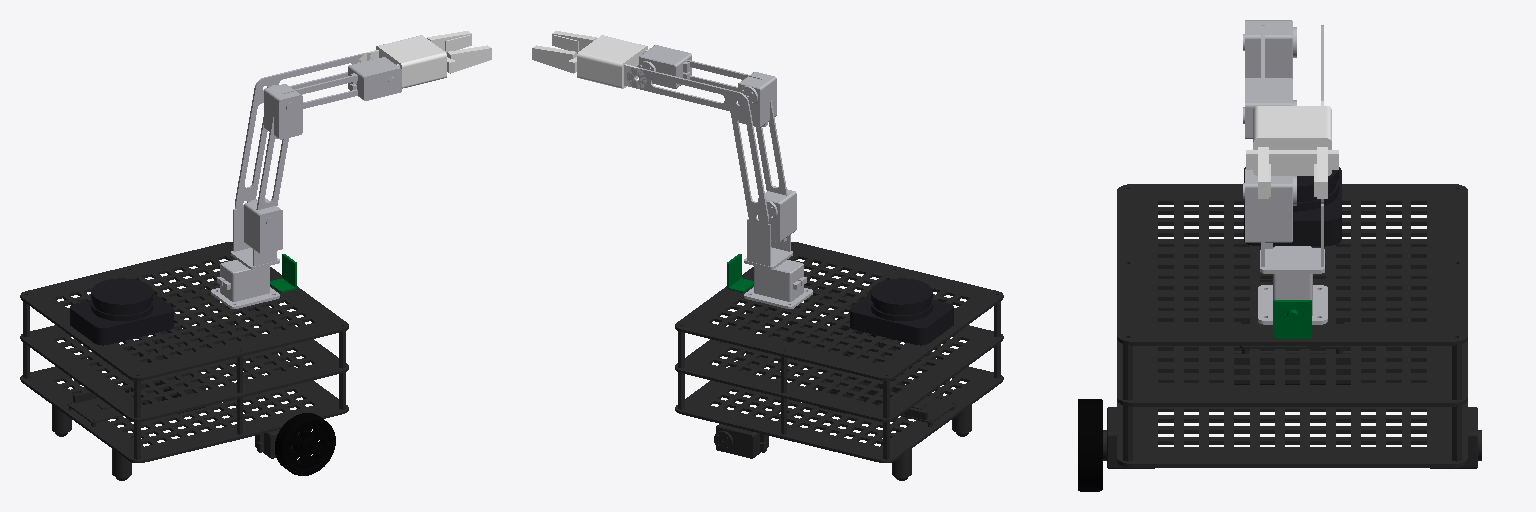
The robot description file, URDF, robot "tb3_omx":
<?xml version="1.0"?>
<!-- TurtleBot3 Waffle Pi + OpenMANIPULATOR-X  |  generated by source/generate.py -->
<robot name="tb3_omx">
  <material name="dark_grey"><color rgba="0.2 0.2 0.2 1"/></material>
  <material name="black"><color rgba="0.05 0.05 0.05 1"/></material>
  <material name="dark"><color rgba="0.15 0.15 0.17 1"/></material>
  <material name="green"><color rgba="0.0 0.45 0.2 1"/></material>
  <material name="aluminium"><color rgba="0.75 0.75 0.78 1"/></material>
  <material name="white"><color rgba="0.92 0.92 0.92 1"/></material>
  <link name="base_footprint"/>
  <link name="imu_link"/>
  <link name="end_effector_link"/>
  <link name="caster_back_left_link">
    <collision><geometry><sphere radius="0.008"/></geometry></collision>
    <inertial><mass value="0.005"/><inertia ixx="1e-6" ixy="0" ixz="0" iyy="1e-6" iyz="0" izz="1e-6"/></inertial>
  </link>
  <link name="caster_back_right_link">
    <collision><geometry><sphere radius="0.008"/></geometry></collision>
    <inertial><mass value="0.005"/><inertia ixx="1e-6" ixy="0" ixz="0" iyy="1e-6" iyz="0" izz="1e-6"/></inertial>
  </link>
  <link name="base_link">
    <visual>
      <origin xyz="0 0 0" rpy="0 0 0"/>
      <geometry><mesh filename="package://tb3_omx_description/meshes/base_link.stl" scale="0.001 0.001 0.001"/></geometry>
      <material name="dark_grey"/>
    </visual>
    <collision>
      <origin xyz="-0.064 0 0.08275" rpy="0 0 0"/>
      <geometry><box size="0.266 0.25 0.107"/></geometry>
    </collision>
    <inertial>
      <origin xyz="-0.0664042 2.92852e-05 0.0707364" rpy="0 0 0"/>
      <mass value="1.6"/>
      <inertia ixx="1.228055e-02" ixy="5.002345e-06" ixz="-3.430103e-05" iyy="1.150243e-02" iyz="1.831477e-06" izz="1.847985e-02"/>
    </inertial>
  </link>
  <link name="wheel_left_link">
    <visual>
      <origin xyz="0 0 0" rpy="0 0 0"/>
      <geometry><mesh filename="package://tb3_omx_description/meshes/wheel_left_link.stl" scale="0.001 0.001 0.001"/></geometry>
      <material name="black"/>
    </visual>
    <collision>
      <origin xyz="0 0 0" rpy="0 0 0"/>
      <geometry><cylinder radius="0.033" length="0.018"/></geometry>
    </collision>
    <inertial>
      <origin xyz="0 0 0" rpy="0 0 0"/>
      <mass value="0.0285"/>
      <inertia ixx="9.462499e-06" ixy="9.164671e-22" ixz="-4.241032e-23" iyy="9.462499e-06" iyz="1.471676e-23" izz="1.780869e-05"/>
    </inertial>
  </link>
  <link name="wheel_right_link">
    <visual>
      <origin xyz="0 0 0" rpy="0 0 0"/>
      <geometry><mesh filename="package://tb3_omx_description/meshes/wheel_right_link.stl" scale="0.001 0.001 0.001"/></geometry>
      <material name="black"/>
    </visual>
    <collision>
      <origin xyz="0 0 0" rpy="0 0 0"/>
      <geometry><cylinder radius="0.033" length="0.018"/></geometry>
    </collision>
    <inertial>
      <origin xyz="0 0 0" rpy="0 0 0"/>
      <mass value="0.0285"/>
      <inertia ixx="9.462499e-06" ixy="9.164671e-22" ixz="-4.241032e-23" iyy="9.462499e-06" iyz="1.471676e-23" izz="1.780869e-05"/>
    </inertial>
  </link>
  <link name="base_scan">
    <visual>
      <origin xyz="0 0 0" rpy="0 0 0"/>
      <geometry><mesh filename="package://tb3_omx_description/meshes/base_scan.stl" scale="0.001 0.001 0.001"/></geometry>
      <material name="dark"/>
    </visual>
    <collision>
      <origin xyz="0 0 0" rpy="0 0 0"/>
      <geometry><mesh filename="package://tb3_omx_description/meshes/base_scan.stl" scale="0.001 0.001 0.001"/></geometry>
    </collision>
    <inertial>
      <origin xyz="0 0 -0.0135566" rpy="0 0 0"/>
      <mass value="0.114"/>
      <inertia ixx="5.347521e-05" ixy="3.513103e-22" ixz="1.231216e-21" iyy="8.029145e-05" iyz="8.523986e-23" izz="1.066196e-04"/>
    </inertial>
  </link>
  <link name="camera_link">
    <visual>
      <origin xyz="0 0 0" rpy="0 0 0"/>
      <geometry><mesh filename="package://tb3_omx_description/meshes/camera_link.stl" scale="0.001 0.001 0.001"/></geometry>
      <material name="green"/>
    </visual>
    <collision>
      <origin xyz="0 0 0" rpy="0 0 0"/>
      <geometry><mesh filename="package://tb3_omx_description/meshes/camera_link.stl" scale="0.001 0.001 0.001"/></geometry>
    </collision>
    <inertial>
      <origin xyz="-0.00427417 0 -0.00812358" rpy="0 0 0"/>
      <mass value="0.035"/>
      <inertia ixx="5.327454e-06" ixy="3.557610e-23" ixz="-1.229516e-06" iyy="4.431648e-06" iyz="3.727679e-23" izz="3.215425e-06"/>
    </inertial>
  </link>
  <link name="link1">
    <visual>
      <origin xyz="0 0 0" rpy="0 0 0"/>
      <geometry><mesh filename="package://tb3_omx_description/meshes/link1.stl" scale="0.001 0.001 0.001"/></geometry>
      <material name="aluminium"/>
    </visual>
    <collision>
      <origin xyz="0 0 0" rpy="0 0 0"/>
      <geometry><mesh filename="package://tb3_omx_description/meshes/link1.stl" scale="0.001 0.001 0.001"/></geometry>
    </collision>
    <inertial>
      <origin xyz="-1.95566e-05 0 -0.00263376" rpy="0 0 0"/>
      <mass value="0.0794"/>
      <inertia ixx="1.751067e-05" ixy="-3.916690e-23" ixz="-3.056049e-07" iyy="2.657503e-05" iyz="1.631697e-21" izz="2.300670e-05"/>
    </inertial>
  </link>
  <link name="link2">
    <visual>
      <origin xyz="0 0 0" rpy="0 0 0"/>
      <geometry><mesh filename="package://tb3_omx_description/meshes/link2.stl" scale="0.001 0.001 0.001"/></geometry>
      <material name="aluminium"/>
    </visual>
    <collision>
      <origin xyz="0 0 0" rpy="0 0 0"/>
      <geometry><mesh filename="package://tb3_omx_description/meshes/link2.stl" scale="0.001 0.001 0.001"/></geometry>
    </collision>
    <inertial>
      <origin xyz="0 -0.013286 0.0418309" rpy="0 0 0"/>
      <mass value="0.0985"/>
      <inertia ixx="5.143864e-05" ixy="9.209884e-22" ixz="4.937743e-21" iyy="3.929422e-05" iyz="7.022852e-06" izz="2.579167e-05"/>
    </inertial>
  </link>
  <link name="link3">
    <visual>
      <origin xyz="0 0 0" rpy="0 0 0"/>
      <geometry><mesh filename="package://tb3_omx_description/meshes/link3.stl" scale="0.001 0.001 0.001"/></geometry>
      <material name="aluminium"/>
    </visual>
    <collision>
      <origin xyz="0 0 0" rpy="0 0 0"/>
      <geometry><mesh filename="package://tb3_omx_description/meshes/link3.stl" scale="0.001 0.001 0.001"/></geometry>
    </collision>
    <inertial>
      <origin xyz="0.0214607 -0.0131109 0.104978" rpy="0 0 0"/>
      <mass value="0.1385"/>
      <inertia ixx="1.773126e-04" ixy="4.611043e-06" ixz="-2.607554e-05" iyy="1.611754e-04" iyz="1.946478e-05" izz="4.520910e-05"/>
    </inertial>
  </link>
  <link name="link4">
    <visual>
      <origin xyz="0 0 0" rpy="0 0 0"/>
      <geometry><mesh filename="package://tb3_omx_description/meshes/link4.stl" scale="0.001 0.001 0.001"/></geometry>
      <material name="aluminium"/>
    </visual>
    <collision>
      <origin xyz="0 0 0" rpy="0 0 0"/>
      <geometry><mesh filename="package://tb3_omx_description/meshes/link4.stl" scale="0.001 0.001 0.001"/></geometry>
    </collision>
    <inertial>
      <origin xyz="0.101677 -0.0132027 0" rpy="0 0 0"/>
      <mass value="0.1324"/>
      <inertia ixx="3.755913e-05" ixy="1.751570e-05" ixz="5.919502e-21" iyy="1.387335e-04" iyz="-1.665096e-21" izz="1.590702e-04"/>
    </inertial>
  </link>
  <link name="link5">
    <visual>
      <origin xyz="0 0 0" rpy="0 0 0"/>
      <geometry><mesh filename="package://tb3_omx_description/meshes/link5.stl" scale="0.001 0.001 0.001"/></geometry>
      <material name="white"/>
    </visual>
    <collision>
      <origin xyz="0 0 0" rpy="0 0 0"/>
      <geometry><mesh filename="package://tb3_omx_description/meshes/link5.stl" scale="0.001 0.001 0.001"/></geometry>
    </collision>
    <inertial>
      <origin xyz="0.0433089 0 0" rpy="0 0 0"/>
      <mass value="0.1438"/>
      <inertia ixx="4.872970e-05" ixy="-1.919941e-21" ixz="4.522255e-22" iyy="5.808539e-05" iyz="-2.995429e-23" izz="8.685506e-05"/>
    </inertial>
  </link>
  <link name="gripper_left_link">
    <visual>
      <origin xyz="0 0 0" rpy="0 0 0"/>
      <geometry><mesh filename="package://tb3_omx_description/meshes/gripper_left_link.stl" scale="0.001 0.001 0.001"/></geometry>
      <material name="white"/>
    </visual>
    <collision>
      <origin xyz="0 0 0" rpy="0 0 0"/>
      <geometry><mesh filename="package://tb3_omx_description/meshes/gripper_left_link.stl" scale="0.001 0.001 0.001"/></geometry>
    </collision>
    <inertial>
      <origin xyz="0.0178355 -0.000331395 0" rpy="0 0 0"/>
      <mass value="0.01"/>
      <inertia ixx="3.363243e-07" ixy="3.037077e-08" ixz="7.450239e-23" iyy="2.293338e-06" iyz="-5.650206e-24" izz="2.085787e-06"/>
    </inertial>
  </link>
  <link name="gripper_right_link">
    <visual>
      <origin xyz="0 0 0" rpy="0 0 0"/>
      <geometry><mesh filename="package://tb3_omx_description/meshes/gripper_right_link.stl" scale="0.001 0.001 0.001"/></geometry>
      <material name="white"/>
    </visual>
    <collision>
      <origin xyz="0 0 0" rpy="0 0 0"/>
      <geometry><mesh filename="package://tb3_omx_description/meshes/gripper_right_link.stl" scale="0.001 0.001 0.001"/></geometry>
    </collision>
    <inertial>
      <origin xyz="0.0178355 0.000331395 0" rpy="0 0 0"/>
      <mass value="0.01"/>
      <inertia ixx="3.363243e-07" ixy="-3.037077e-08" ixz="-9.017583e-23" iyy="2.293338e-06" iyz="-2.741828e-23" izz="2.085787e-06"/>
    </inertial>
  </link>
  <joint name="base_joint" type="fixed">
    <parent link="base_footprint"/>
    <child link="base_link"/>
    <origin xyz="0 0 0.01" rpy="0 0 0"/>
  </joint>
  <joint name="wheel_left_joint" type="continuous">
    <parent link="base_link"/>
    <child link="wheel_left_link"/>
    <origin xyz="0 0.144 0.023" rpy="-1.5708 0 0"/>
    <axis xyz="0 0 1"/>
    <dynamics damping="0.01" friction="0.0"/>
  </joint>
  <joint name="wheel_right_joint" type="continuous">
    <parent link="base_link"/>
    <child link="wheel_right_link"/>
    <origin xyz="0 -0.144 0.023" rpy="-1.5708 0 0"/>
    <axis xyz="0 0 1"/>
    <dynamics damping="0.01" friction="0.0"/>
  </joint>
  <joint name="caster_back_left_joint" type="fixed">
    <parent link="base_link"/>
    <child link="caster_back_left_link"/>
    <origin xyz="-0.177 0.064 -0.002" rpy="0 0 0"/>
  </joint>
  <joint name="caster_back_right_joint" type="fixed">
    <parent link="base_link"/>
    <child link="caster_back_right_link"/>
    <origin xyz="-0.177 -0.064 -0.002" rpy="0 0 0"/>
  </joint>
  <joint name="imu_joint" type="fixed">
    <parent link="base_link"/>
    <child link="imu_link"/>
    <origin xyz="-0.064 0 0.09825" rpy="0 0 0"/>
  </joint>
  <joint name="scan_joint" type="fixed">
    <parent link="base_link"/>
    <child link="base_scan"/>
    <origin xyz="-0.14 0 0.16625" rpy="0 0 0"/>
  </joint>
  <joint name="camera_joint" type="fixed">
    <parent link="base_link"/>
    <child link="camera_link"/>
    <origin xyz="0.066 0 0.15625" rpy="0 0 0"/>
  </joint>
  <joint name="arm_mount_joint" type="fixed">
    <parent link="base_link"/>
    <child link="link1"/>
    <origin xyz="0.01 0 0.15625" rpy="0 0 0"/>
  </joint>
  <joint name="joint1" type="revolute">
    <parent link="link1"/>
    <child link="link2"/>
    <origin xyz="0.012 0 0.017" rpy="0 0 0"/>
    <axis xyz="0 0 1"/>
    <limit lower="-2.82743" upper="2.82743" effort="1" velocity="4.8"/>
    <dynamics damping="0.1" friction="0.0"/>
  </joint>
  <joint name="joint2" type="revolute">
    <parent link="link2"/>
    <child link="link3"/>
    <origin xyz="0 0 0.0595" rpy="0 0 0"/>
    <axis xyz="0 1 0"/>
    <limit lower="-1.79071" upper="1.5708" effort="1" velocity="4.8"/>
    <dynamics damping="0.1" friction="0.0"/>
  </joint>
  <joint name="joint3" type="revolute">
    <parent link="link3"/>
    <child link="link4"/>
    <origin xyz="0.024 0 0.128" rpy="0 0 0"/>
    <axis xyz="0 1 0"/>
    <limit lower="-0.942478" upper="1.3823" effort="1" velocity="4.8"/>
    <dynamics damping="0.1" friction="0.0"/>
  </joint>
  <joint name="joint4" type="revolute">
    <parent link="link4"/>
    <child link="link5"/>
    <origin xyz="0.124 0 0" rpy="0 0 0"/>
    <axis xyz="0 1 0"/>
    <limit lower="-1.79071" upper="2.04204" effort="1" velocity="4.8"/>
    <dynamics damping="0.1" friction="0.0"/>
  </joint>
  <joint name="gripper_left_joint" type="prismatic">
    <parent link="link5"/>
    <child link="gripper_left_link"/>
    <origin xyz="0.0817 0.021 0" rpy="0 0 0"/>
    <axis xyz="0 1 0"/>
    <limit lower="-0.01" upper="0.019" effort="1" velocity="0.1"/>
    <dynamics damping="0.1" friction="0.0"/>
  </joint>
  <joint name="gripper_right_joint" type="prismatic">
    <parent link="link5"/>
    <child link="gripper_right_link"/>
    <origin xyz="0.0817 -0.021 0" rpy="0 0 0"/>
    <axis xyz="0 -1 0"/>
    <limit lower="-0.01" upper="0.019" effort="1" velocity="0.1"/>
    <dynamics damping="0.1" friction="0.0"/>
    <mimic joint="gripper_left_joint" multiplier="1" offset="0"/>
  </joint>
  <joint name="end_effector_joint" type="fixed">
    <parent link="link5"/>
    <child link="end_effector_link"/>
    <origin xyz="0.126 0 0" rpy="0 0 0"/>
  </joint>
</robot>

--- Facts derived from the render (not from the file) ---
The picture shows the robot from 3 angles, left to right: view 1: azimuth 30°, elevation 25°; view 2: azimuth 150°, elevation 25°; view 3: azimuth 270°, elevation 25°; orthographic projection.
Robot: tb3_omx — 17 links, 16 joints (4 revolute, 2 continuous, 2 prismatic, 8 fixed); root link base_footprint; default pose: every joint at zero.
Links seen in each view (by area): view 1: base_link, base_scan, link3, link4, wheel_right_link, link2, link5, link1, gripper_right_link, camera_link, gripper_left_link; view 2: base_link, base_scan, link3, link4, link2, link5, link1, gripper_left_link, camera_link, gripper_right_link; view 3: base_link, link5, link2, base_scan, link3, wheel_right_link, link1, link4, camera_link, gripper_left_link, gripper_right_link.
Boxes of the visible links, bbox=[...] form: base_link: bbox=[20, 242, 348, 480]; base_scan: bbox=[70, 278, 173, 345]; link3: bbox=[235, 78, 302, 213]; link4: bbox=[255, 53, 401, 108]; wheel_right_link: bbox=[275, 413, 335, 475]; link2: bbox=[231, 198, 282, 269]; link5: bbox=[358, 35, 455, 88]; link1: bbox=[211, 260, 279, 308]; gripper_right_link: bbox=[447, 45, 491, 73]; camera_link: bbox=[270, 254, 296, 292]; gripper_left_link: bbox=[427, 31, 471, 53]; base_link: bbox=[675, 242, 1003, 480]; base_scan: bbox=[850, 278, 953, 345]; link3: bbox=[729, 72, 787, 227]; link4: bbox=[627, 45, 761, 113]; link2: bbox=[744, 186, 796, 269]; link5: bbox=[568, 35, 647, 88]; link1: bbox=[744, 260, 812, 308]; gripper_left_link: bbox=[532, 45, 576, 73]; camera_link: bbox=[727, 254, 753, 292]; gripper_right_link: bbox=[552, 31, 596, 53]; base_link: bbox=[1103, 184, 1481, 468]; link5: bbox=[1246, 101, 1338, 175]; link2: bbox=[1243, 169, 1324, 273]; base_scan: bbox=[1244, 167, 1341, 245]; link3: bbox=[1243, 20, 1323, 203]; wheel_right_link: bbox=[1078, 399, 1102, 491]; link1: bbox=[1258, 246, 1327, 324]; link4: bbox=[1243, 27, 1323, 138]; camera_link: bbox=[1273, 300, 1311, 338]; gripper_left_link: bbox=[1314, 147, 1327, 198]; gripper_right_link: bbox=[1258, 147, 1270, 198].
Bounding box of the posed robot: 0.4927 × 0.288 × 0.3857 m (x, y, z).
11 mesh visuals loaded from 12 distinct referenced files (11 binary STL); not drawn: 1 (reference not matched to a file when rendering).
